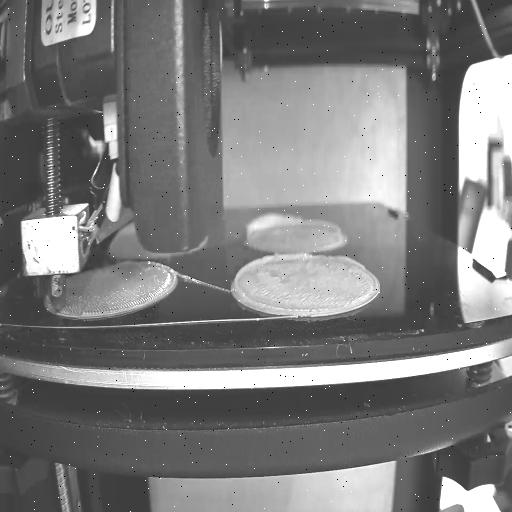over_extrusion: (233, 254, 321, 311), (242, 209, 306, 243), (333, 252, 365, 270), (316, 216, 344, 236)
